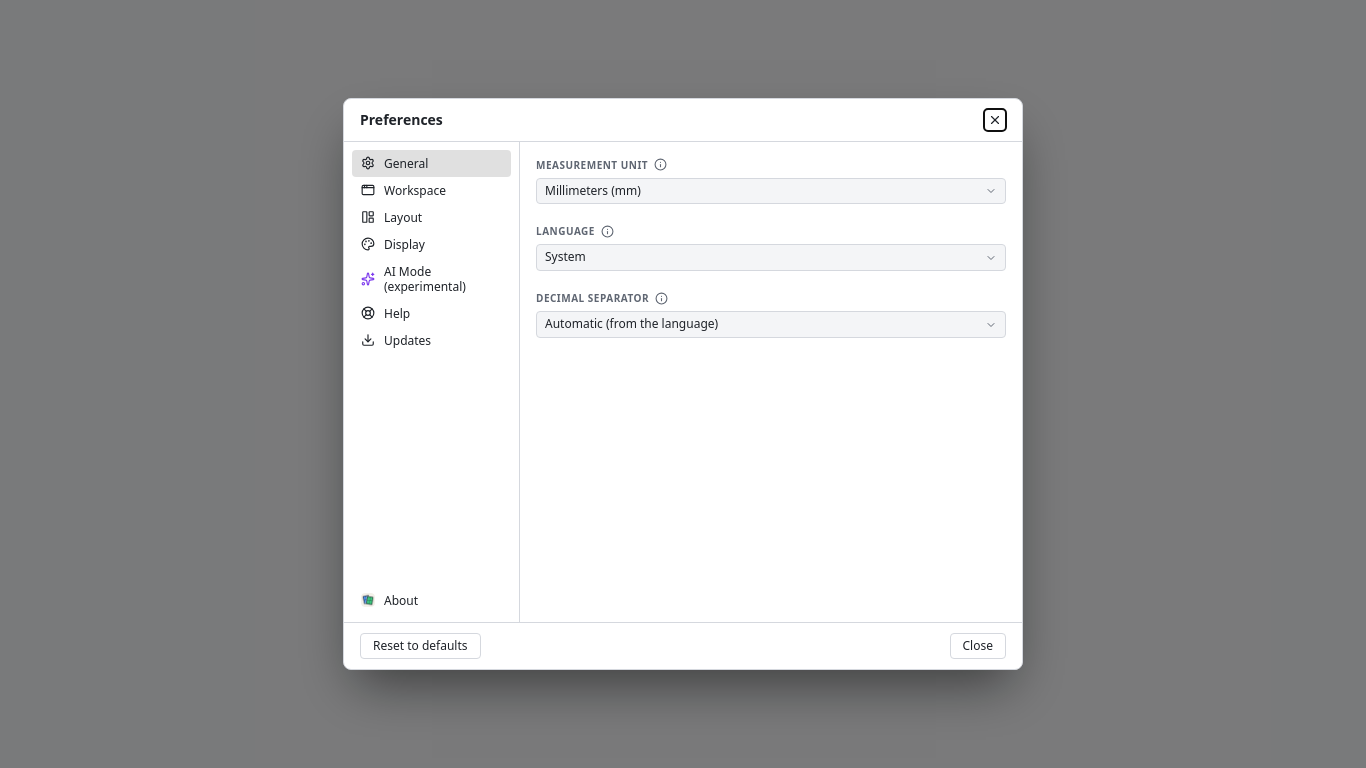
Test: the Preferences sections › shows the layout of both tabs, the panel memory and the reset under Layout
Click the button "Layout".
click(432, 217)  # box x1=352 y1=204 x2=511 y2=231
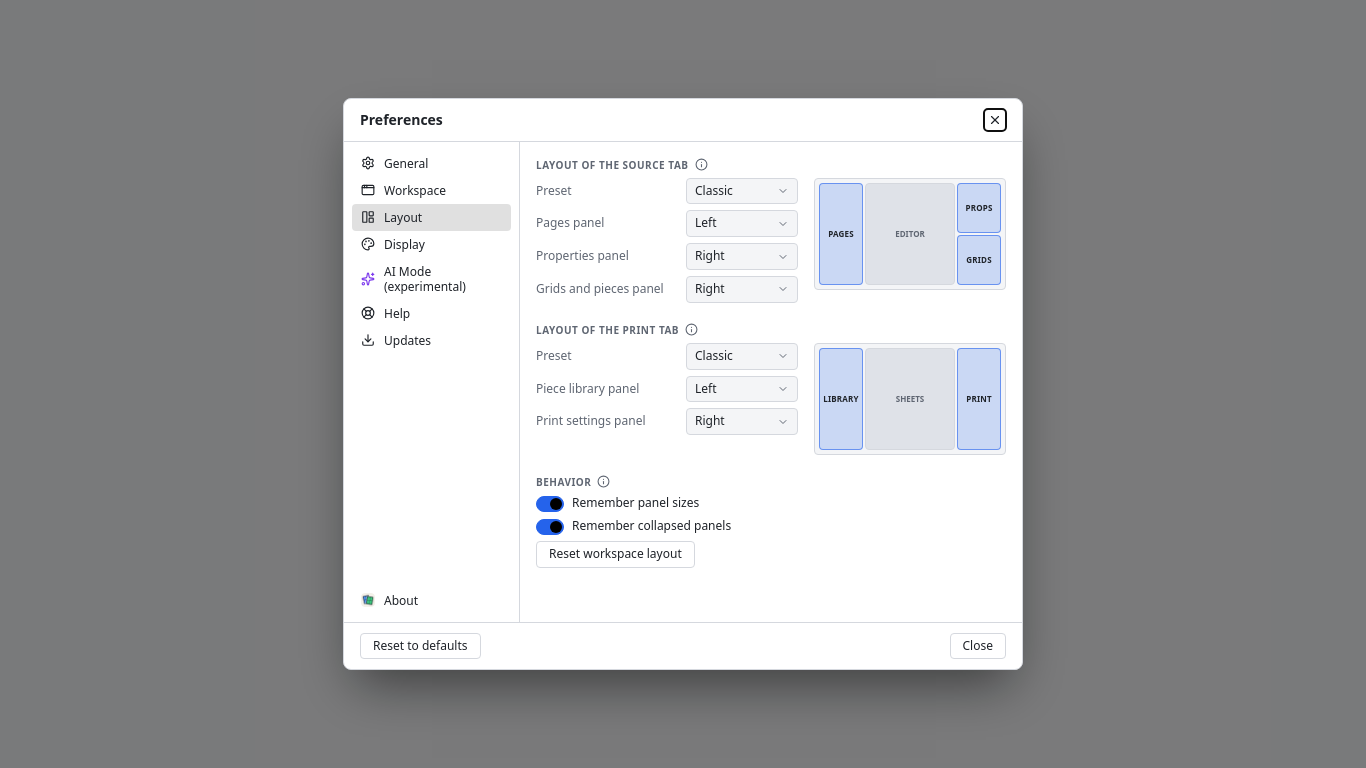
Now the text "Layout of the Source tab" is shown, box x1=536 y1=158 x2=1006 y2=172
Now the text "Layout of the Print tab" is shown, box x1=536 y1=323 x2=1006 y2=337
Now the dropdown named "Piece library panel position" is shown, box x1=686 y1=376 x2=798 y2=402
